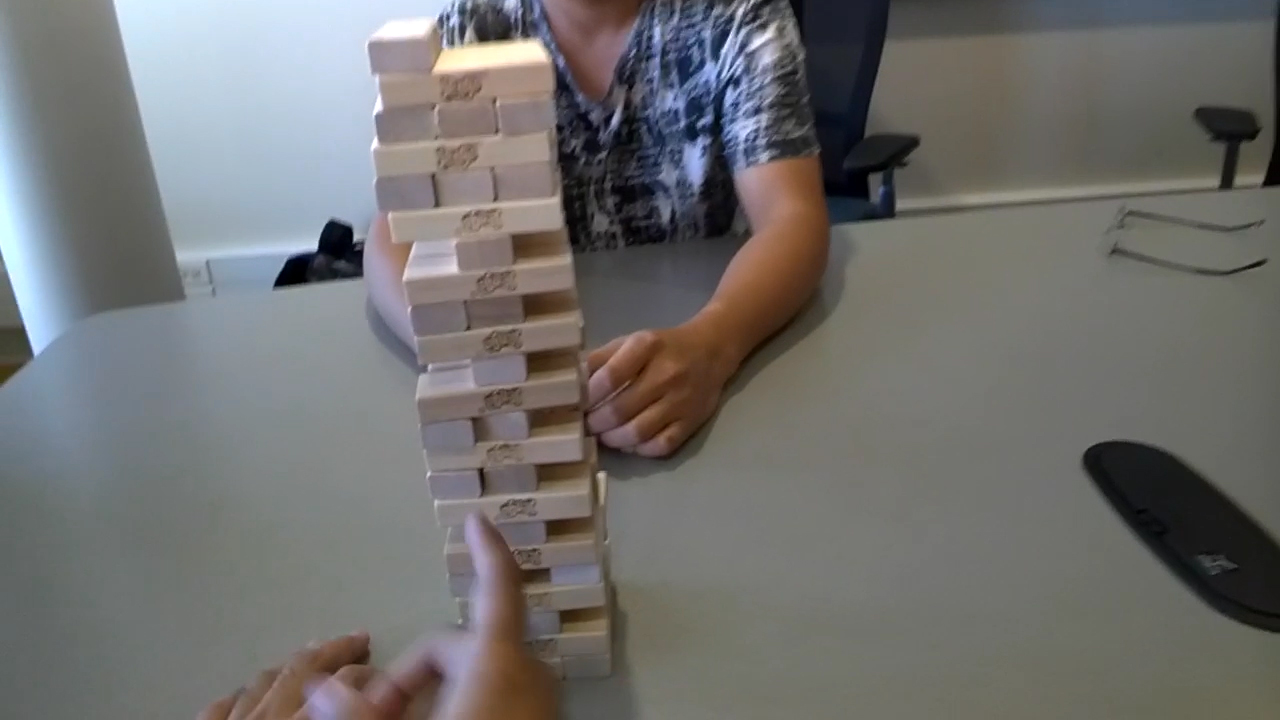hand: (321, 525, 551, 714), (592, 318, 725, 455), (207, 640, 360, 713)
